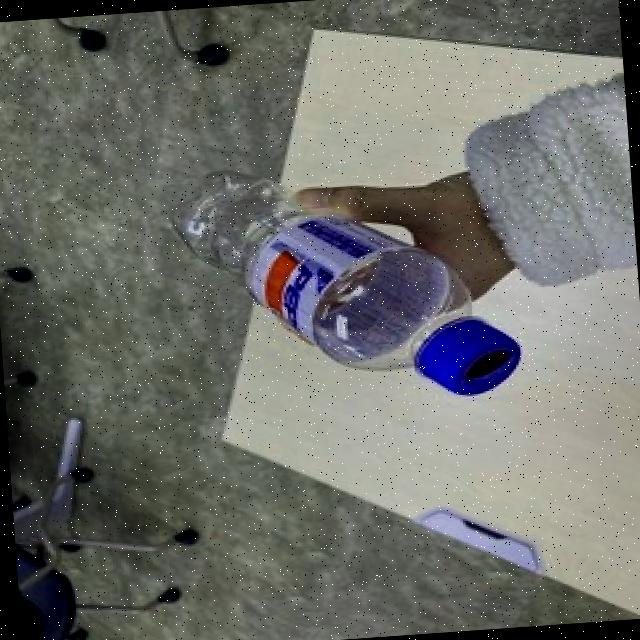bottle: (163, 138, 531, 428)
cap: (422, 315, 530, 396)
label: (232, 202, 420, 382)
